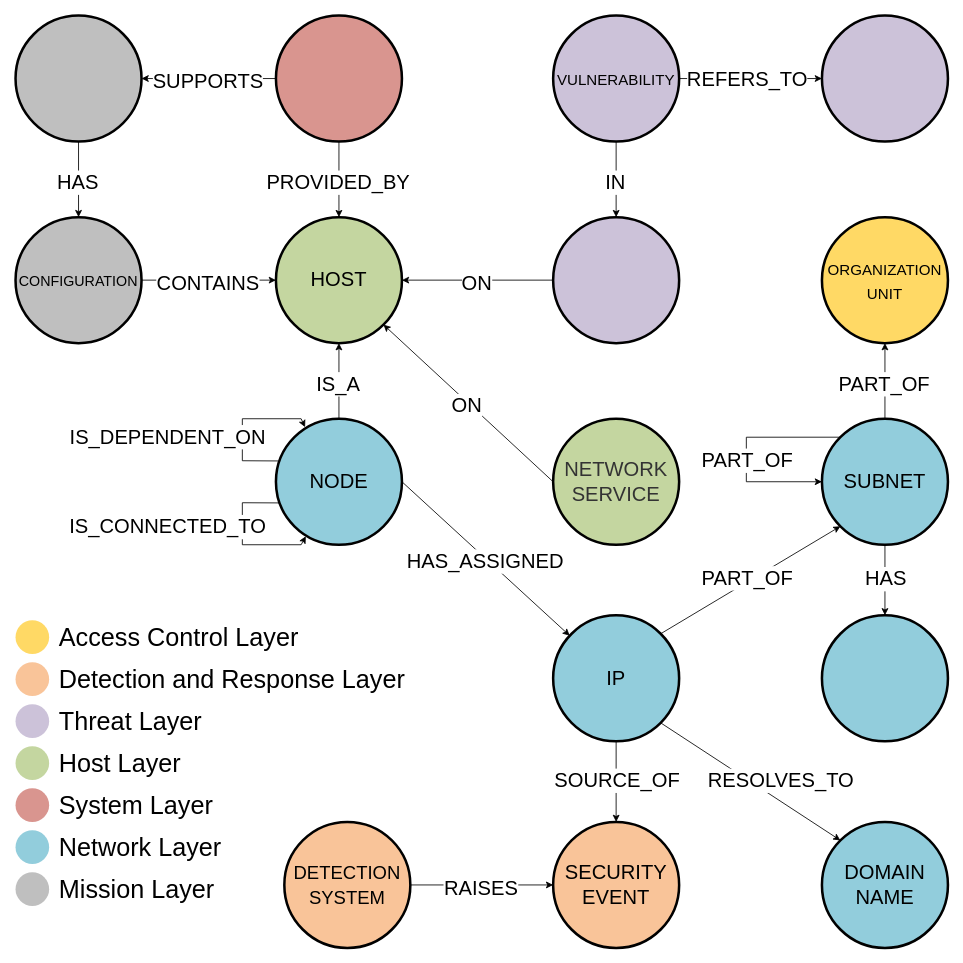
Some shapes in this 963 by 963 pixel diagram are drawn without their labels. Here are the shapes that lost their labels. From the top down, the box of each, then its label:
(14, 14, 142, 142): MISSION
(274, 14, 403, 142): COMPONENT
(820, 14, 949, 142): CVE
(551, 215, 680, 344): SOFTWARE VERSION
(820, 614, 949, 742): CONTACT
